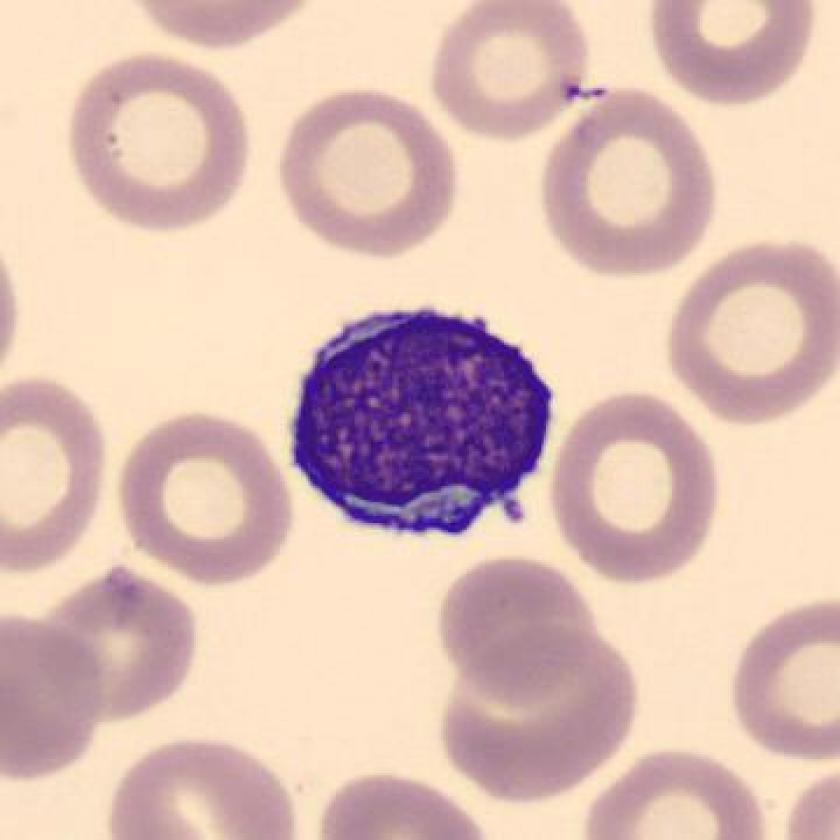lymphocyte: (270, 288, 578, 566)
